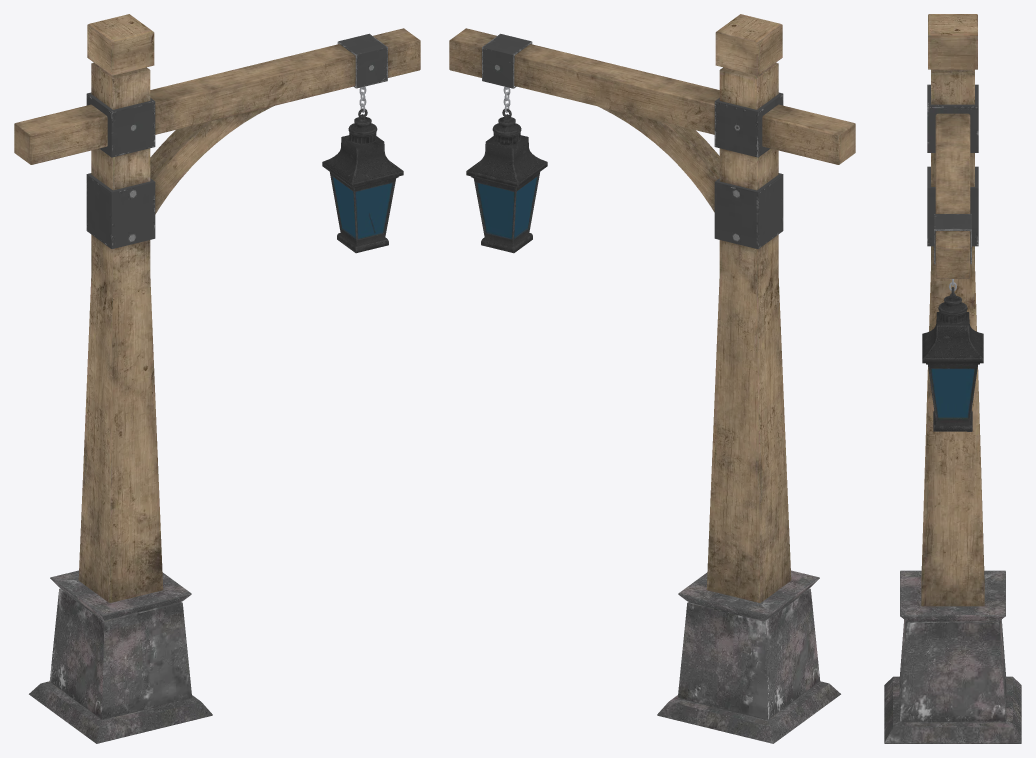
File: Lantern-ph.glb
The picture shows the model from 3 angles, left to right: view 1: azimuth 30°, elevation 25°; view 2: azimuth 150°, elevation 25°; view 3: azimuth 270°, elevation 25°; orthographic projection.
Visible parts, largest first — view 1: LanternPole_Body, LanternPole_Lantern; view 2: LanternPole_Body, LanternPole_Lantern; view 3: LanternPole_Body, LanternPole_Lantern.
Part boxes in pixels (x1,y1,x2,y2): LanternPole_Body: (14,14,420,743); LanternPole_Lantern: (322,108,403,253); LanternPole_Body: (449,14,855,743); LanternPole_Lantern: (466,108,547,253); LanternPole_Body: (884,14,1021,743); LanternPole_Lantern: (922,287,983,431).
Size of the model in its own units: 15.49 by 25.66 by 4.63.
1 material, 1 textured.
